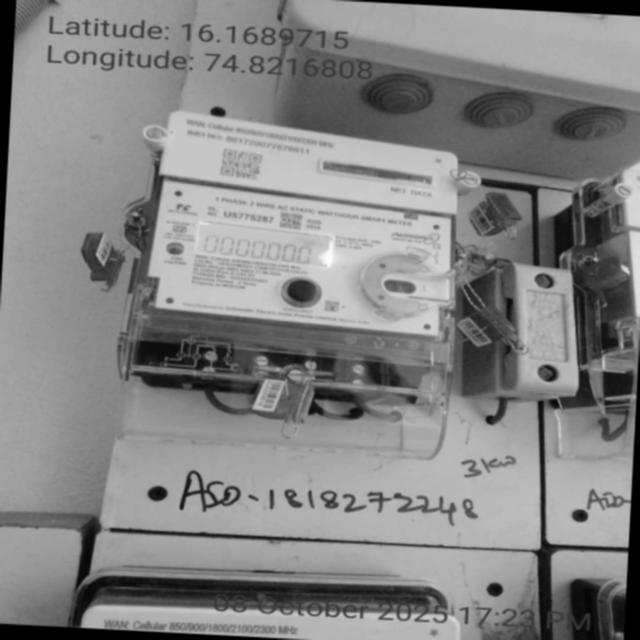meter: (146, 106, 474, 339)
